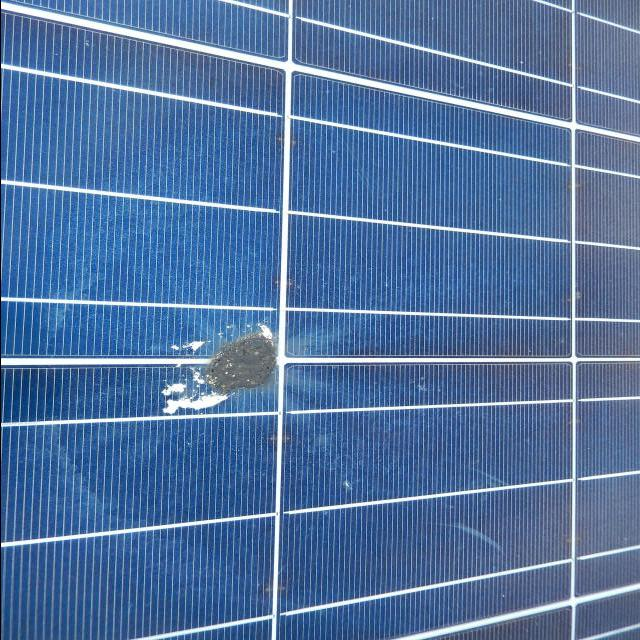soiled: (0, 71, 314, 640)
